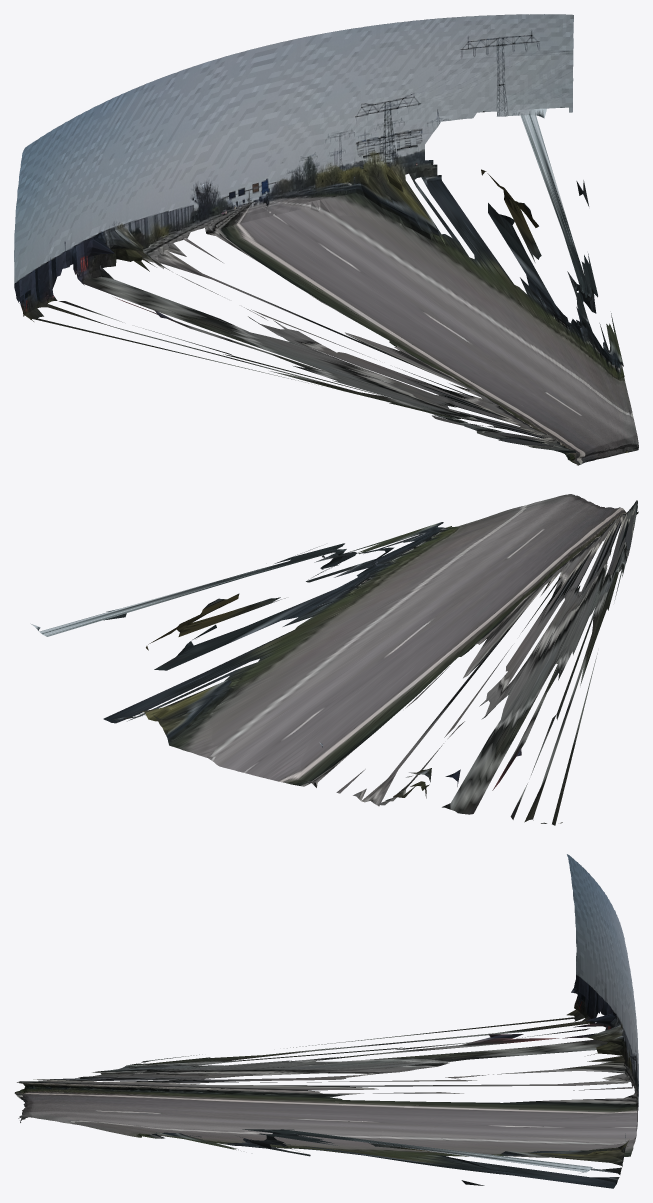
The picture shows the model from 3 angles, top to bottom: view 1: azimuth 30°, elevation 25°; view 2: azimuth 150°, elevation 25°; view 3: azimuth 270°, elevation 25°; orthographic projection. The views are drawn at different scales.
Visible parts, largest first — view 1: defaultobject; view 2: defaultobject; view 3: defaultobject.
Part boxes in pixels (box(x1,y1,x2,y2)): defaultobject: box(14, 14, 638, 465); defaultobject: box(30, 494, 638, 825); defaultobject: box(14, 854, 638, 1188).
Bounding box in the file's own units: 41.14 × 13.23 × 44.73.
Materials: 1 (1 with a texture image).
